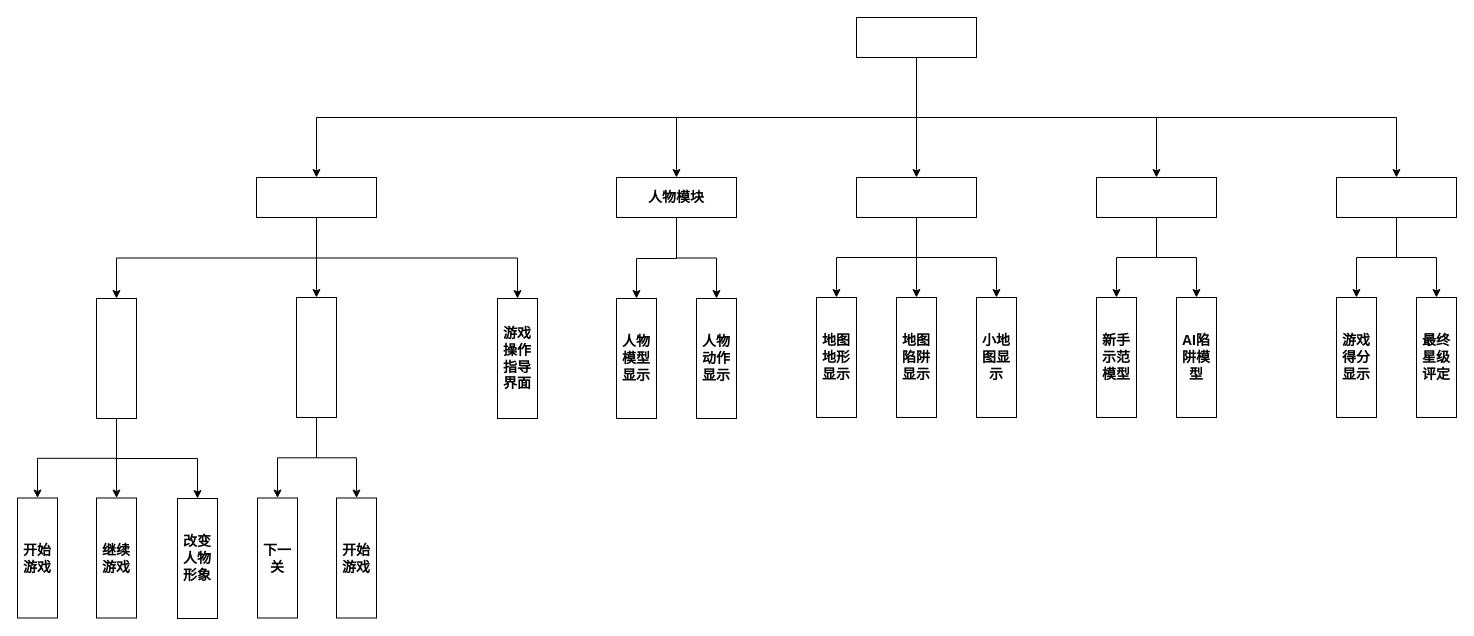
This 1474x636 diagram has some shape labels left out. Each missing label, with the box of its shape:
AI模块: (1096, 176, 1216, 218)
UI模块: (256, 176, 376, 218)
《On His Way》: (856, 16, 976, 58)
关卡结束界面: (296, 296, 336, 418)
地图模块: (856, 176, 976, 218)
游戏开始界面: (96, 298, 136, 418)
计算模块: (1336, 176, 1456, 218)
